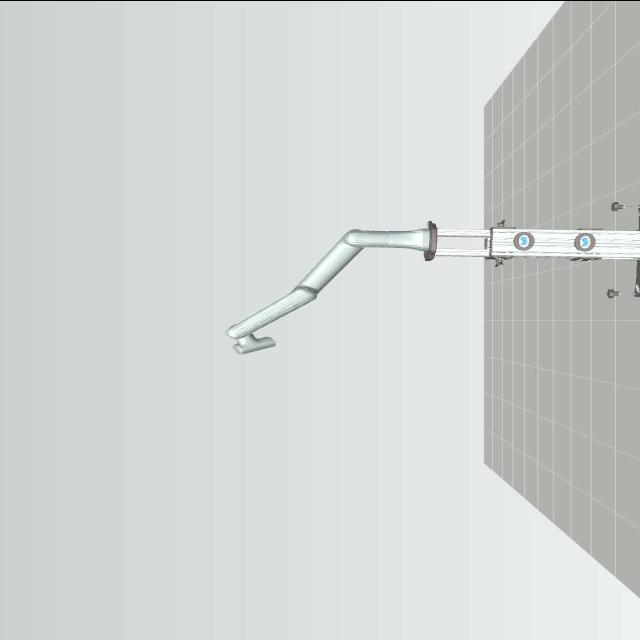robot: (223, 201, 477, 361)
